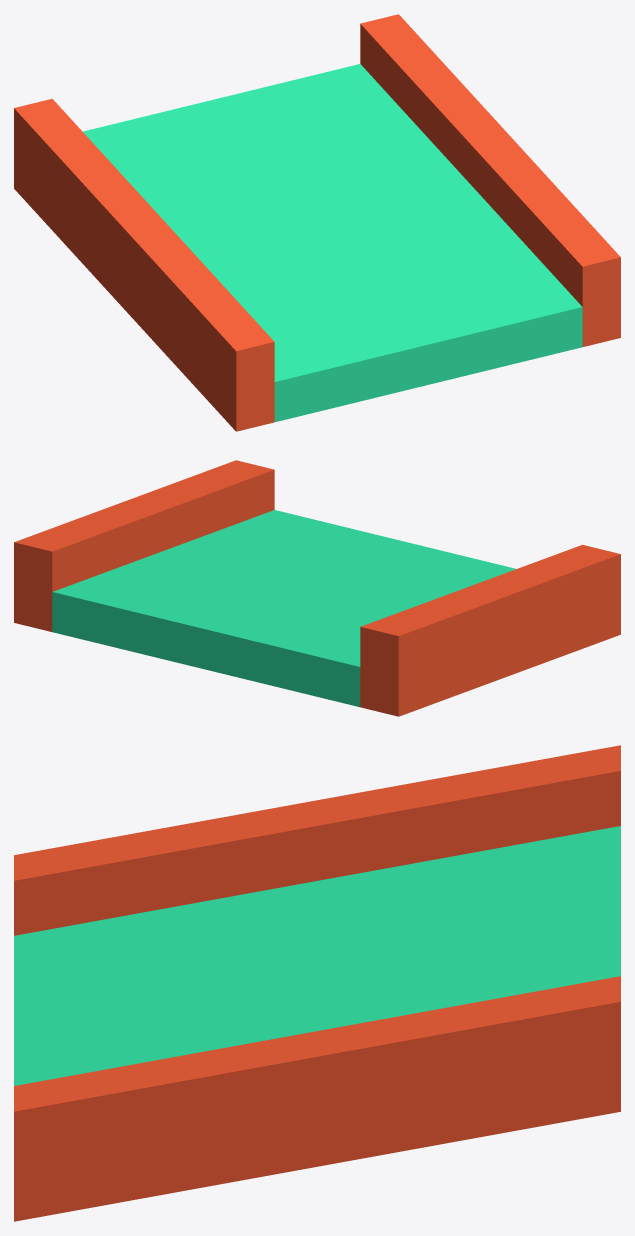
The model's file is track_down_1.fbx.
3 renders of one model, top to bottom at view 1: azimuth 30°, elevation 25°; view 2: azimuth 150°, elevation 25°; view 3: azimuth 270°, elevation 25°, orthographic. The views are drawn at different scales.
Visible parts, largest first — view 1: slope_1_27; view 2: slope_1_27; view 3: slope_1_27.
Boxes of the visible parts, <box> form: slope_1_27: <box>14,14,620,431</box>; slope_1_27: <box>14,460,620,716</box>; slope_1_27: <box>14,745,620,1221</box>.
Bounding box in the file's own units: 10 × 4 × 10.
